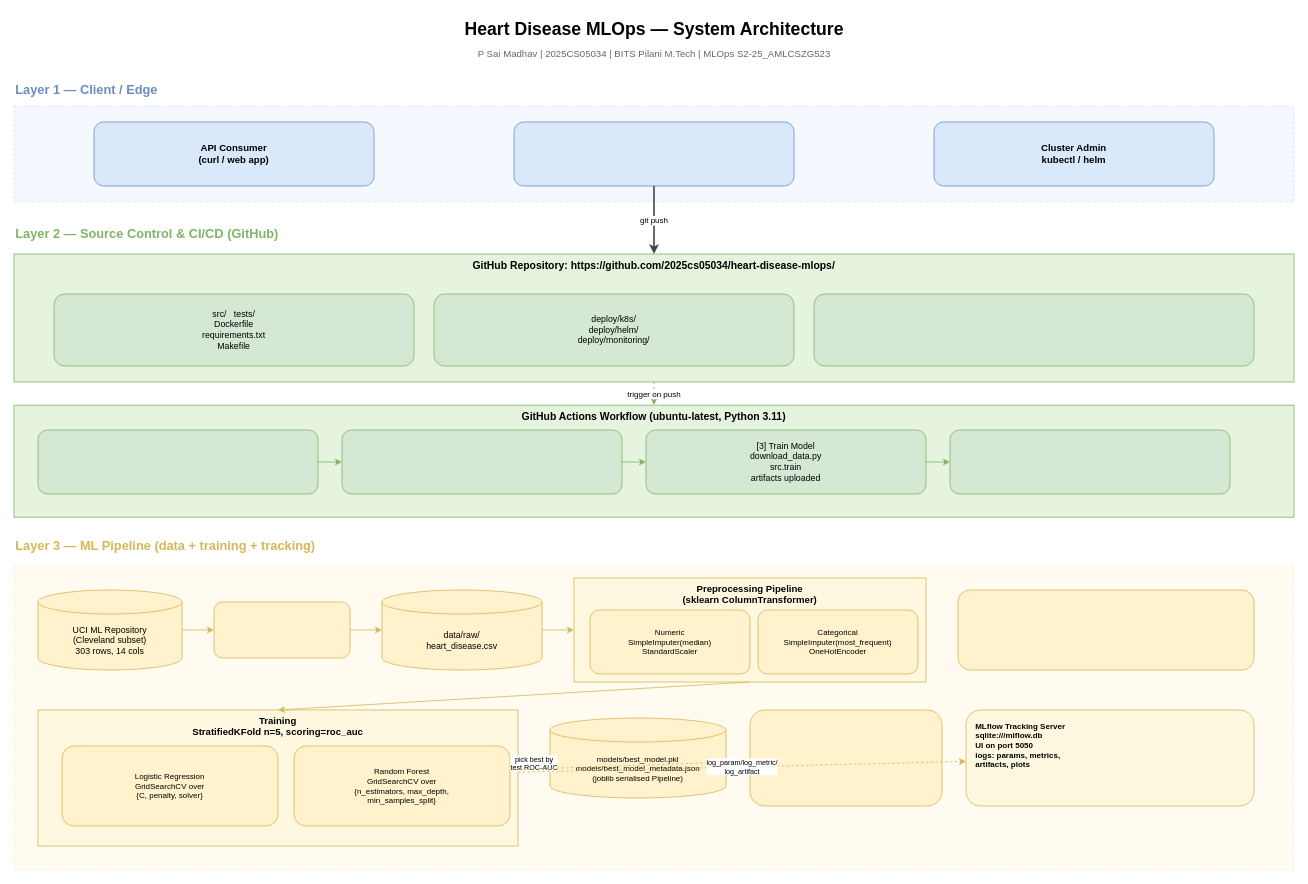
Image size: 1308x884. Some labels were removed from this diagram. Each missing label, with the centre of its shape:
".github/workflows/ ci.yml notebooks/01_eda.ipynb" belongs at point (1033, 329).
"[1] Lint flake8 black --check isort --check" belongs at point (177, 461).
"[2] Unit Tests pytest --cov 21 tests coverage.xml" belongs at point (481, 461).
"[4] Build Docker Image buildx + load + smoke test curl /health, /predict" belongs at point (1089, 461).
"artifacts/ • training_summary.md • ROC curves • confusion matrices • EDA plots" belongs at point (845, 757).
"Developer git push to main" belongs at point (653, 153).
"notebooks/01_eda.ipynb • histograms • correlation heatmap • class balance" belongs at point (1105, 629).
"src/ download_data.py" belongs at point (281, 629).
